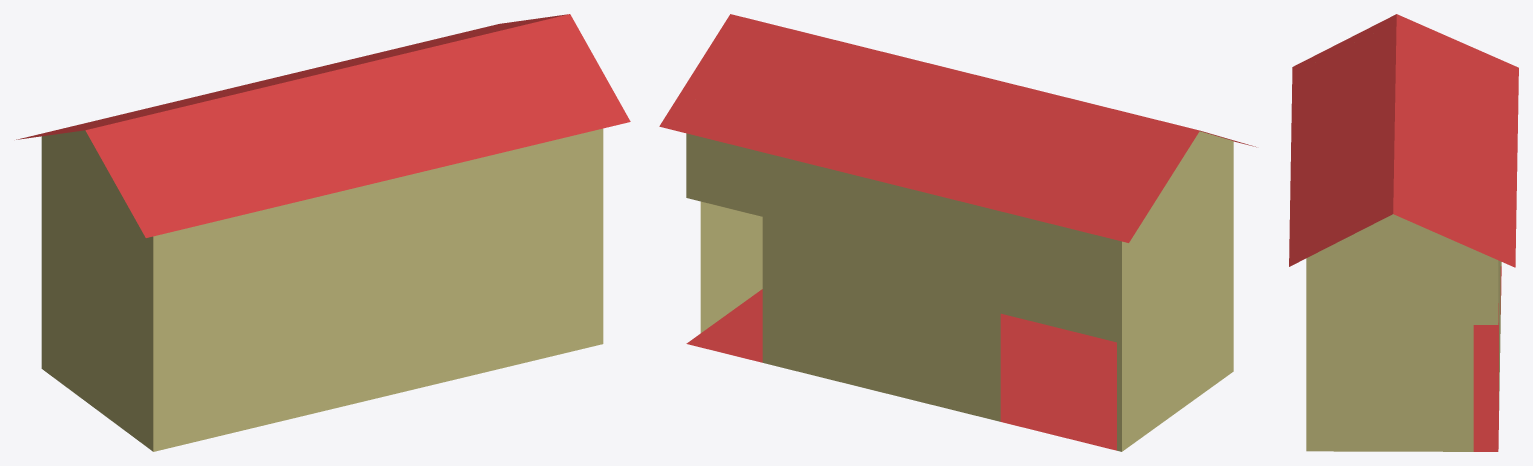
3 views of the same model, side by side, from view 1: azimuth 30°, elevation 25°; view 2: azimuth 150°, elevation 25°; view 3: azimuth 270°, elevation 25° (orthographic). The views are drawn at different scales.
Bounding box in the file's own units: 20.75 × 10.04 × 11.8.
